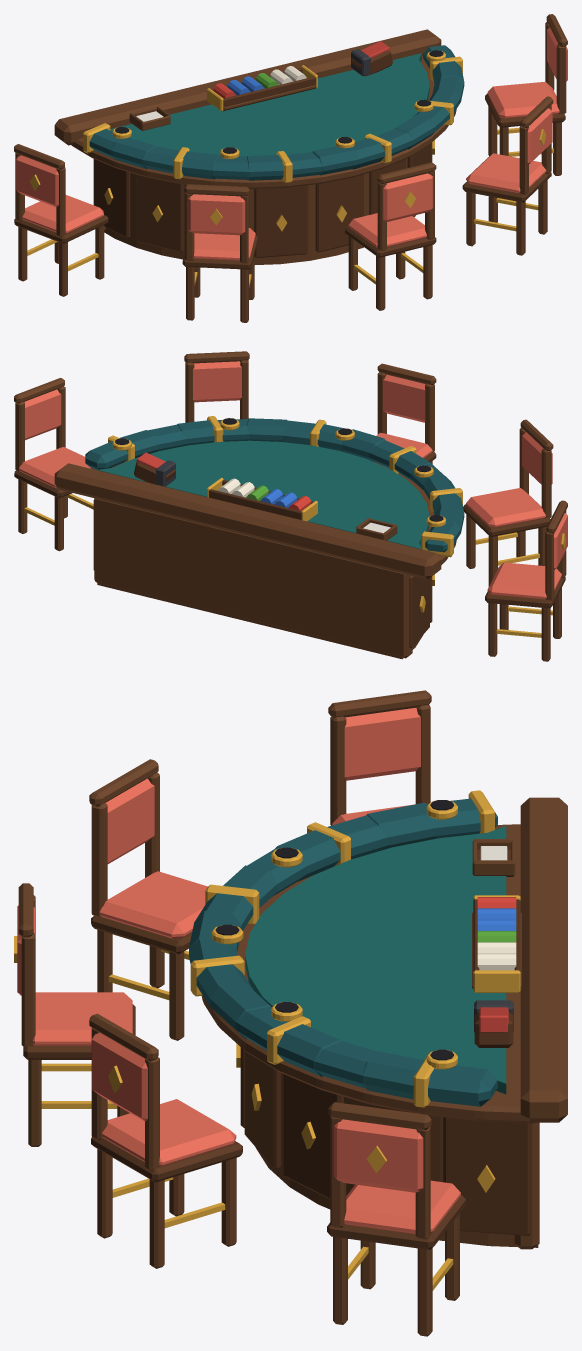
The model's file is blackjack_table.glb.
The picture shows the model from 3 angles, top to bottom: view 1: azimuth 30°, elevation 25°; view 2: azimuth 150°, elevation 25°; view 3: azimuth 270°, elevation 25°; orthographic projection. The views are drawn at different scales.
Parts seen in each view (by area): view 1: blackjack_table; view 2: blackjack_table; view 3: blackjack_table.
Boxes of the visible parts, x1=… form: blackjack_table: x1=14, y1=14, x2=567, y2=322; blackjack_table: x1=14, y1=351, x2=567, y2=661; blackjack_table: x1=14, y1=690, x2=567, y2=1336.
Bounding box in the file's own units: 3.44 × 0.83 × 1.87.
